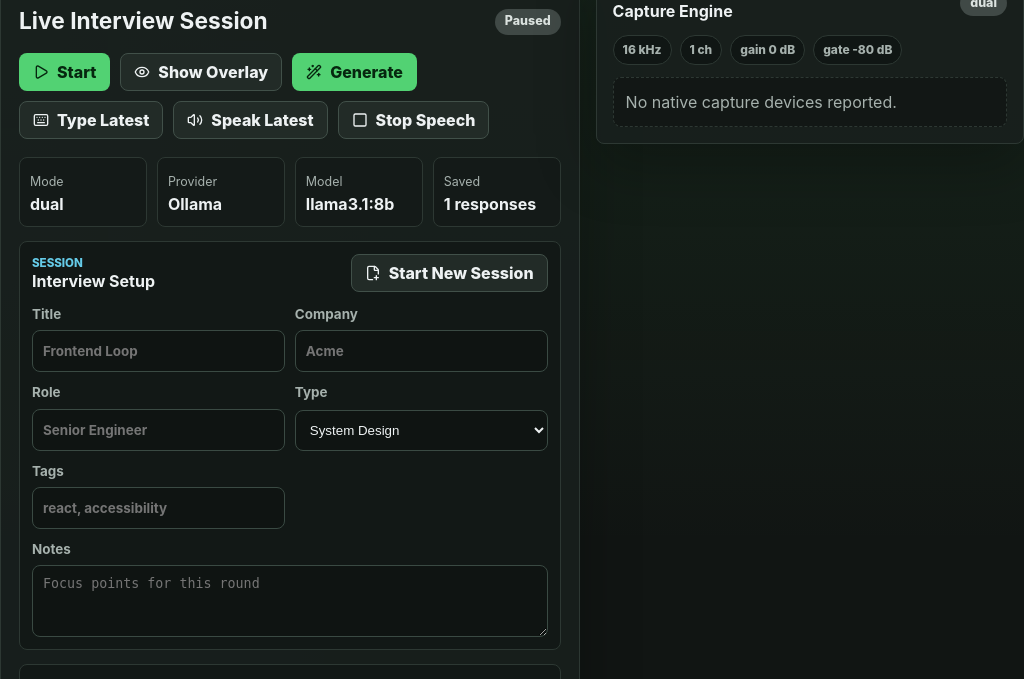
Dashboard collaboration helper › auto-types the saved AI response when auto-answer typing is enabled
Expected: the heading "Live Interview Session" is shown, [19,7,268,34]
Click the button "Generate". click: (354, 72)
box: [292,53,417,91]
(page scrolled)
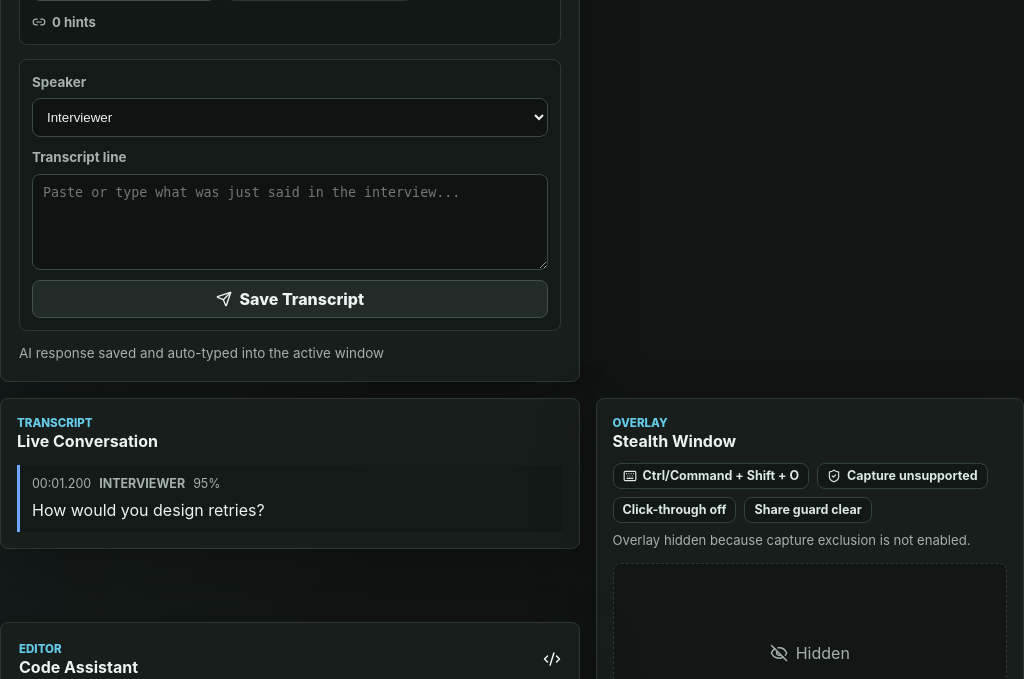
Result: the text "AI response saved and auto-typed into the active window" is shown at [19,345,384,361]
